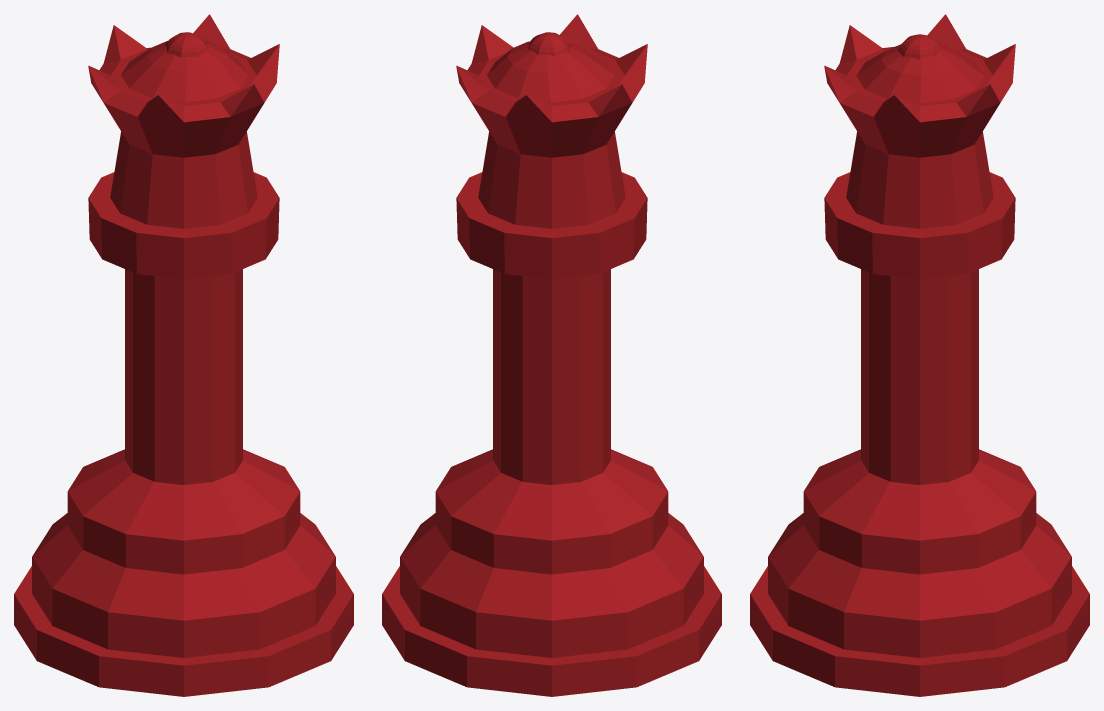
The model's file is lowpoly_q_b.glb.
The picture shows the model from 3 angles, left to right: view 1: azimuth 30°, elevation 25°; view 2: azimuth 150°, elevation 25°; view 3: azimuth 270°, elevation 25°; orthographic projection.
Parts seen in each view (by area): view 1: Queen.001; view 2: Queen.001; view 3: Queen.001.
Boxes of the visible parts, left/top/right/bottom form: Queen.001: left=14, top=14, right=353, bottom=696; Queen.001: left=382, top=14, right=721, bottom=696; Queen.001: left=750, top=14, right=1089, bottom=696.
Bounding box in the file's own units: 0.0821 × 0.1573 × 0.0821.
